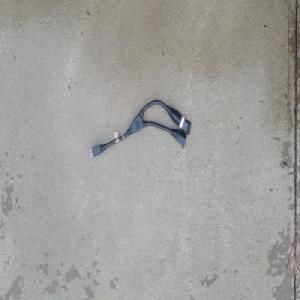Wire: (88, 98, 192, 158)
